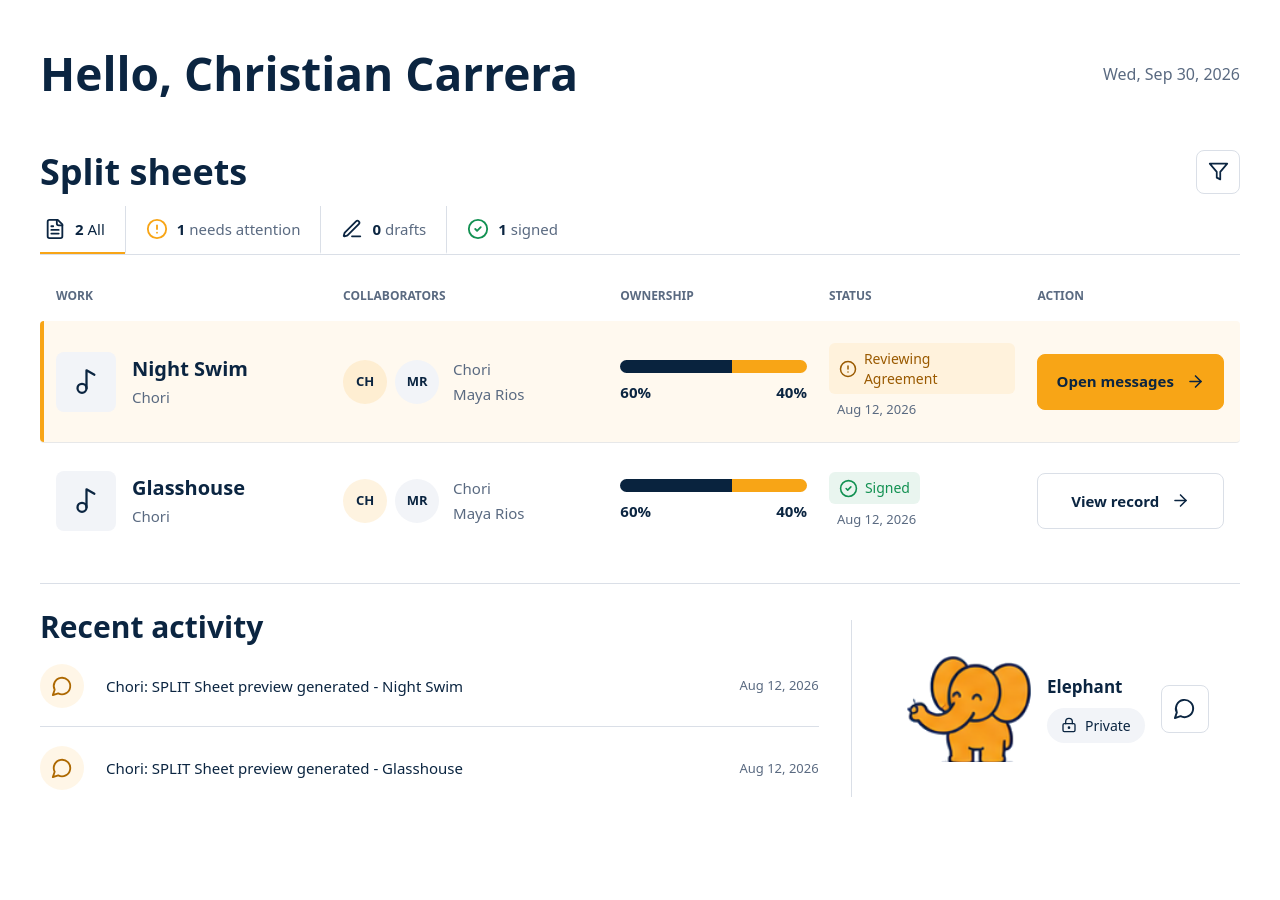
it: workspace overview controls › removes the duplicate search while keeping status filters and empty-state recovery
The width and height of the screenshot is (1280, 900).
Expected: the button named "Filter and sort split sheets" is shown, top-left (1196, 150), bottom-right (1240, 194)
Click the button "0 drafts". click: (384, 230)
box: top-left (321, 206), bottom-right (447, 254)
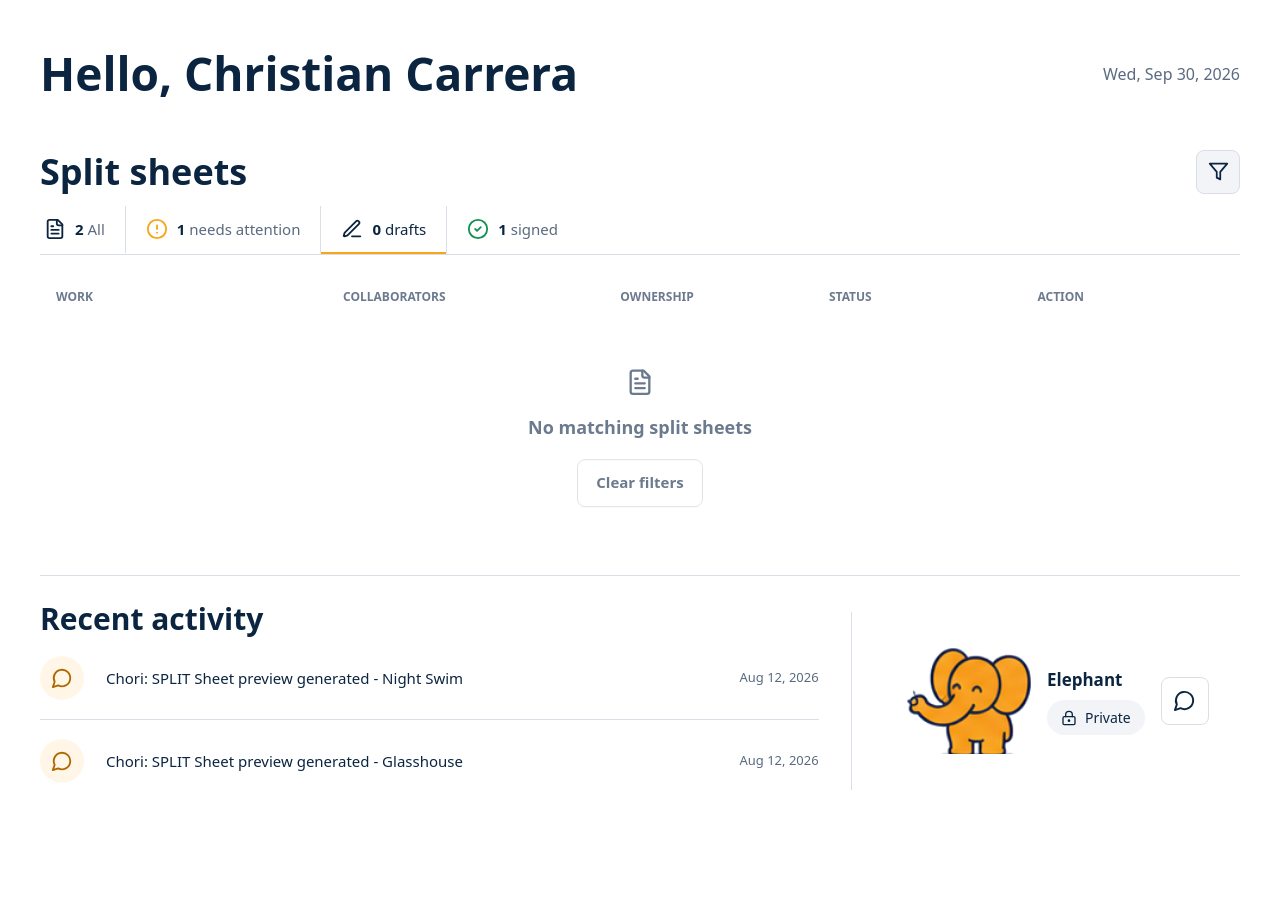
Expected: the heading "No matching split sheets" is shown, top-left (528, 413), bottom-right (752, 440)
Click the button "Clear filters". click: (640, 482)
box: top-left (577, 458), bottom-right (703, 506)
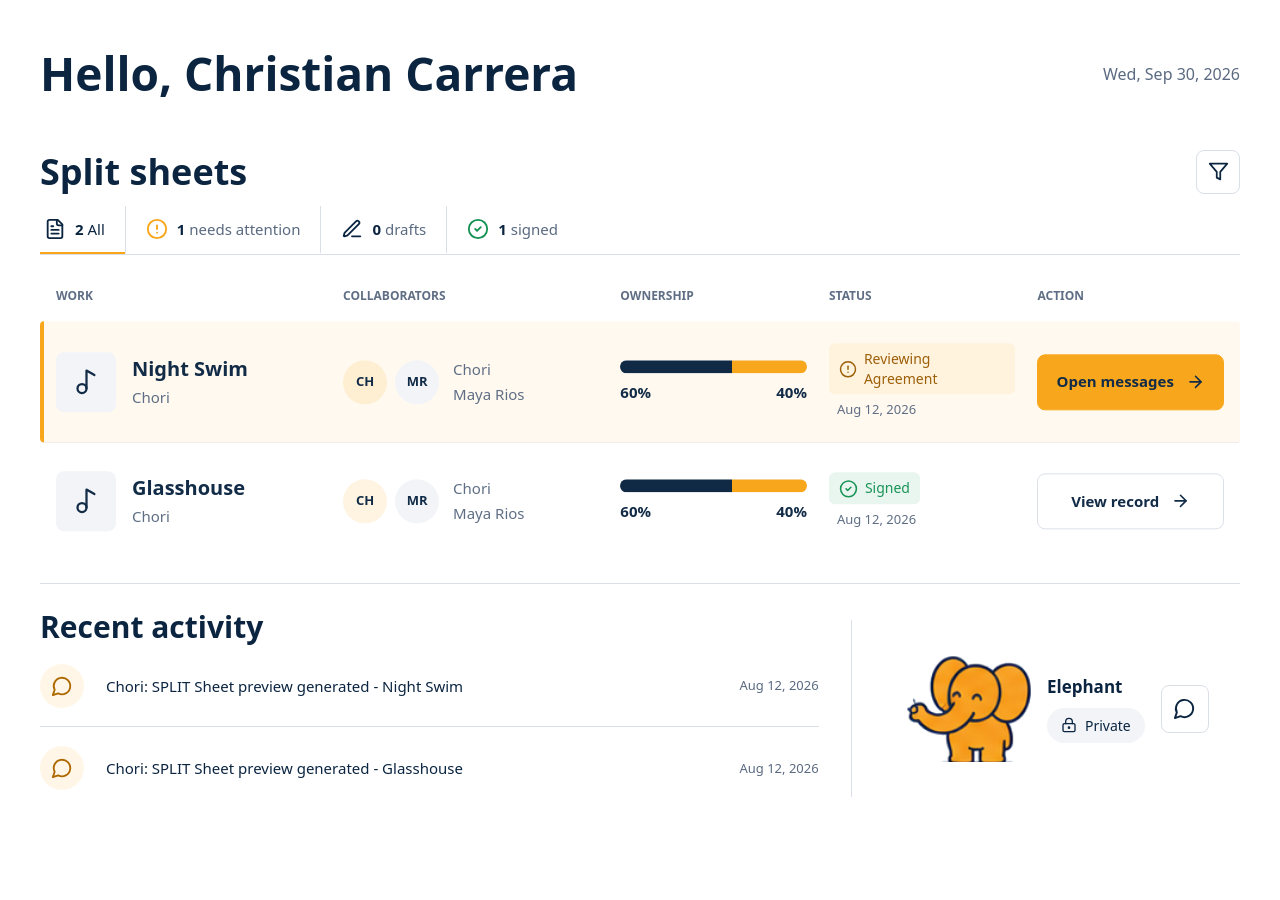
Expected: the button "Night Swim" is shown, top-left (132, 355), bottom-right (248, 382)
